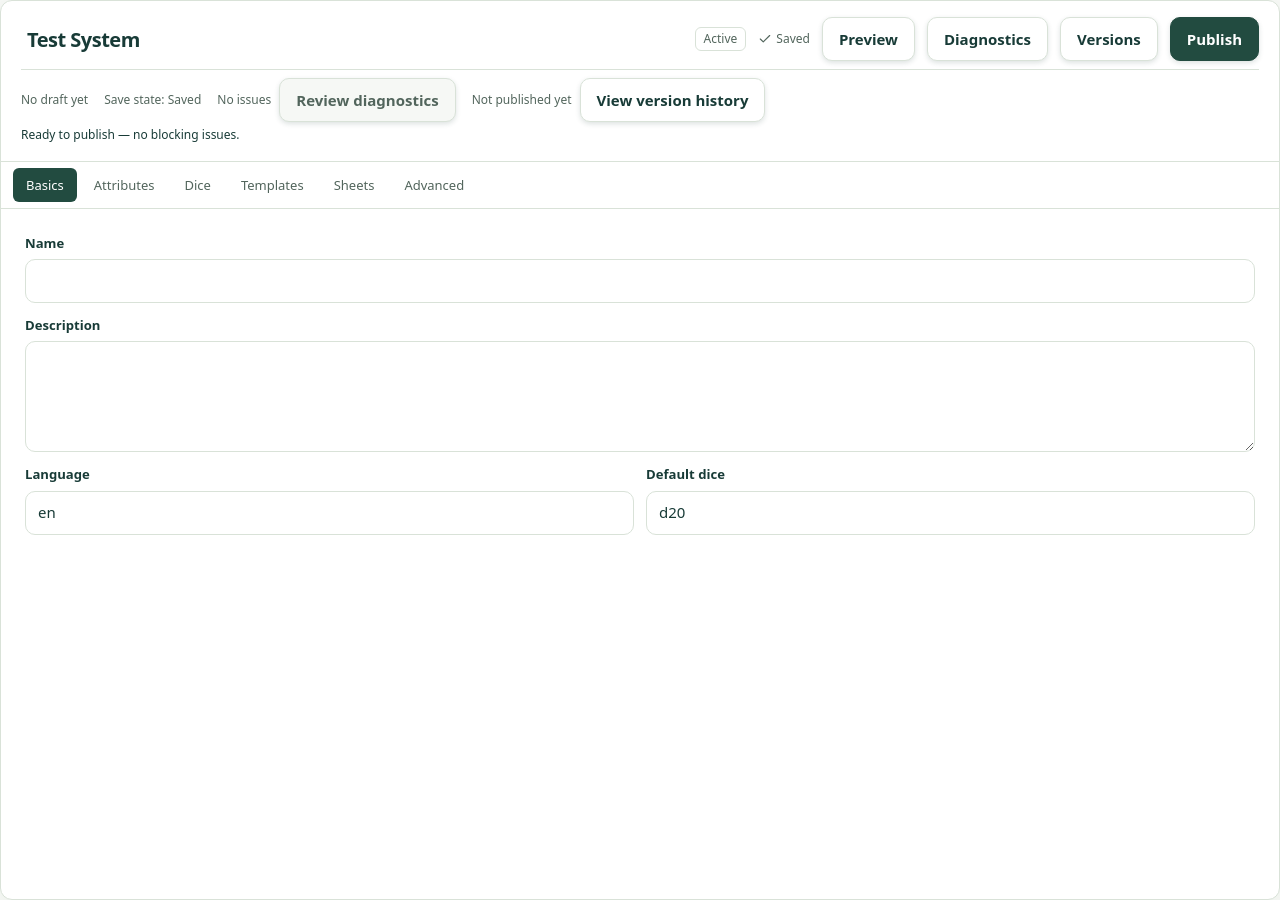
it: DocumentEditor › opens the publish dialog when the publish button is clicked
Click the button with test id "document-editor-publish" at [1214, 39], box [1170,17,1259,61]
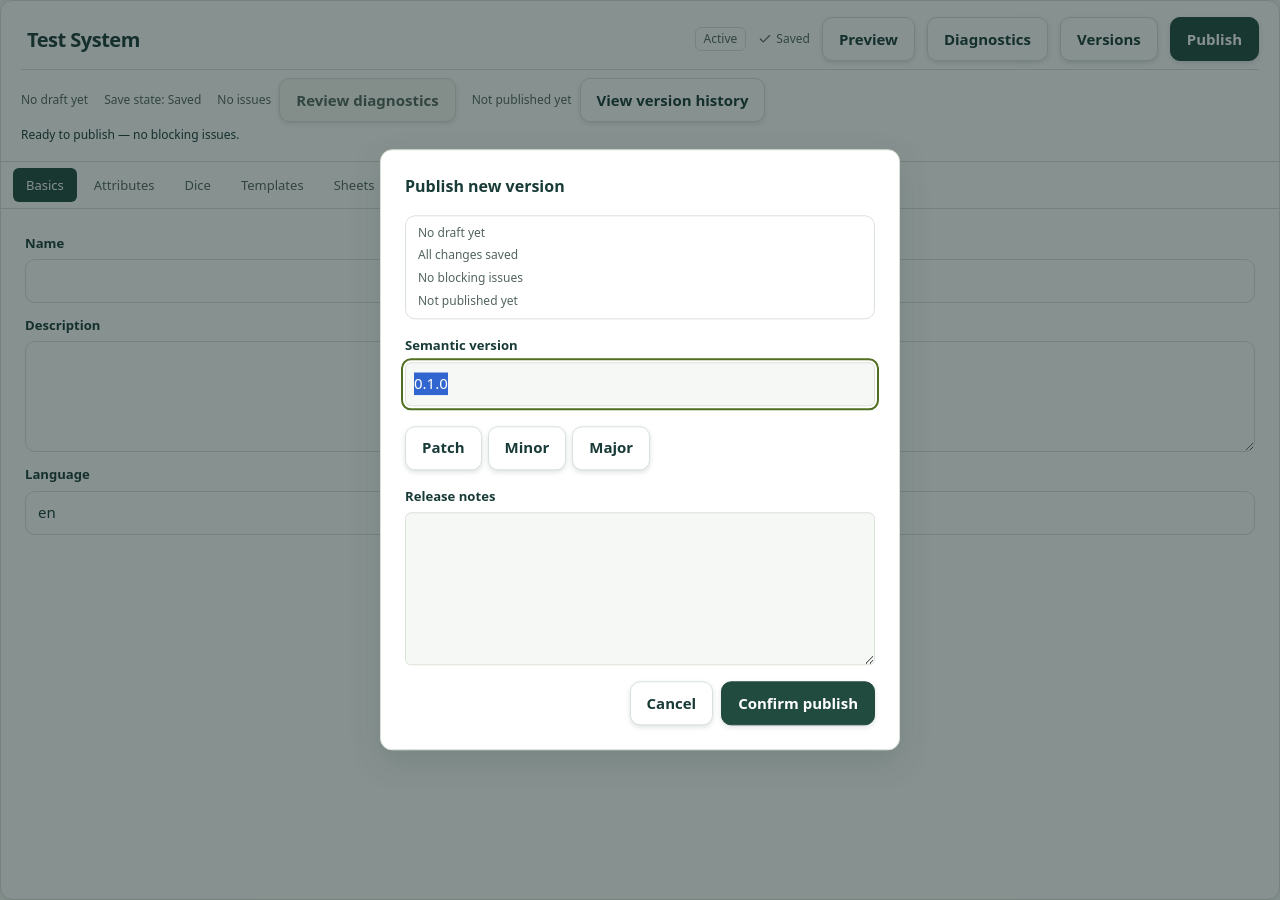
Expected: the dialog with test id "publish-dialog" is shown, [380,149,900,751]
